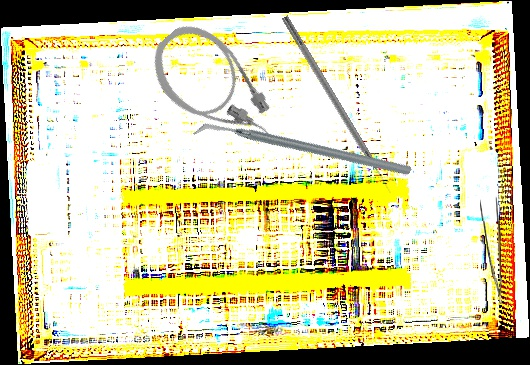Cannula: (137, 10, 291, 170)
Chopper: (191, 50, 413, 251)
Hook Surgical: (279, 15, 394, 196)
Tissue Forceps: (480, 194, 502, 305)
